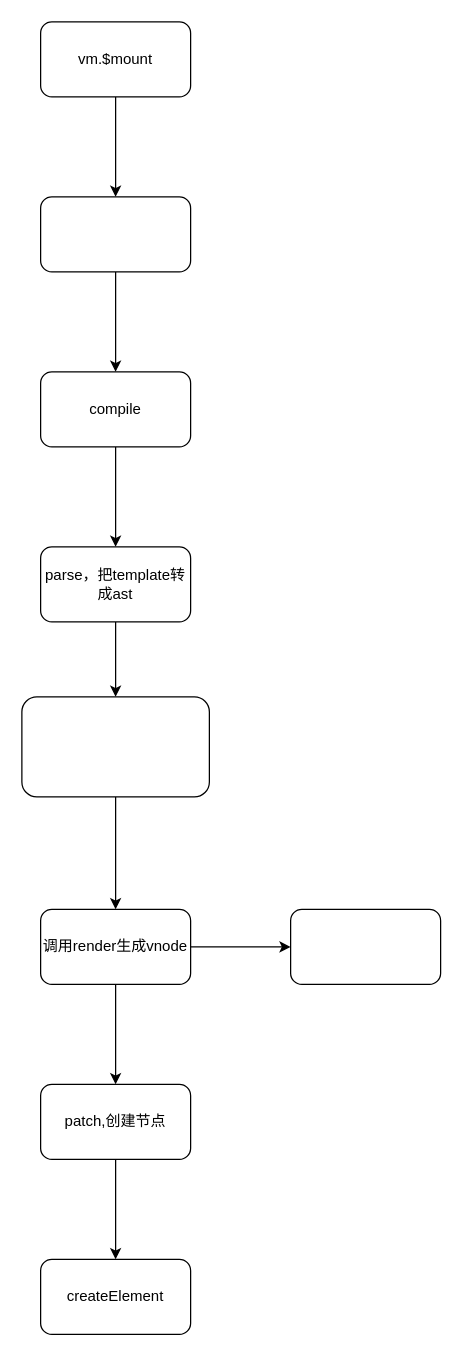
The diagram is 463 pixels wide and 1356 high, and some of its shapes have lost their labels. The centre of each missing label's shape, as x and y in pixels:
compileToFunction 生成render函数: point 115,234
diff vnode: point 365,946
generate 把ast转成对象 { render: '',staticRenderFn: }: point 115,746
